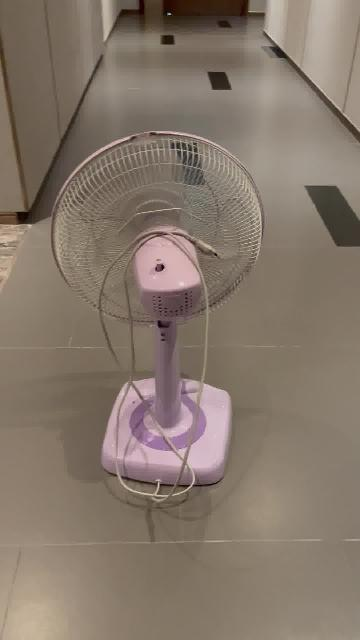Fan: (50, 132, 264, 489)
